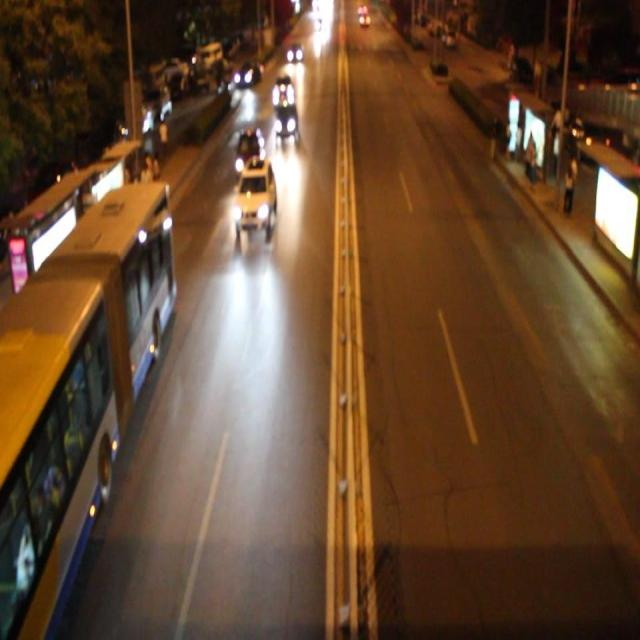car: (235, 157, 275, 232), (235, 127, 266, 176), (273, 102, 298, 139), (272, 73, 294, 108)
van: (1, 187, 172, 640)
